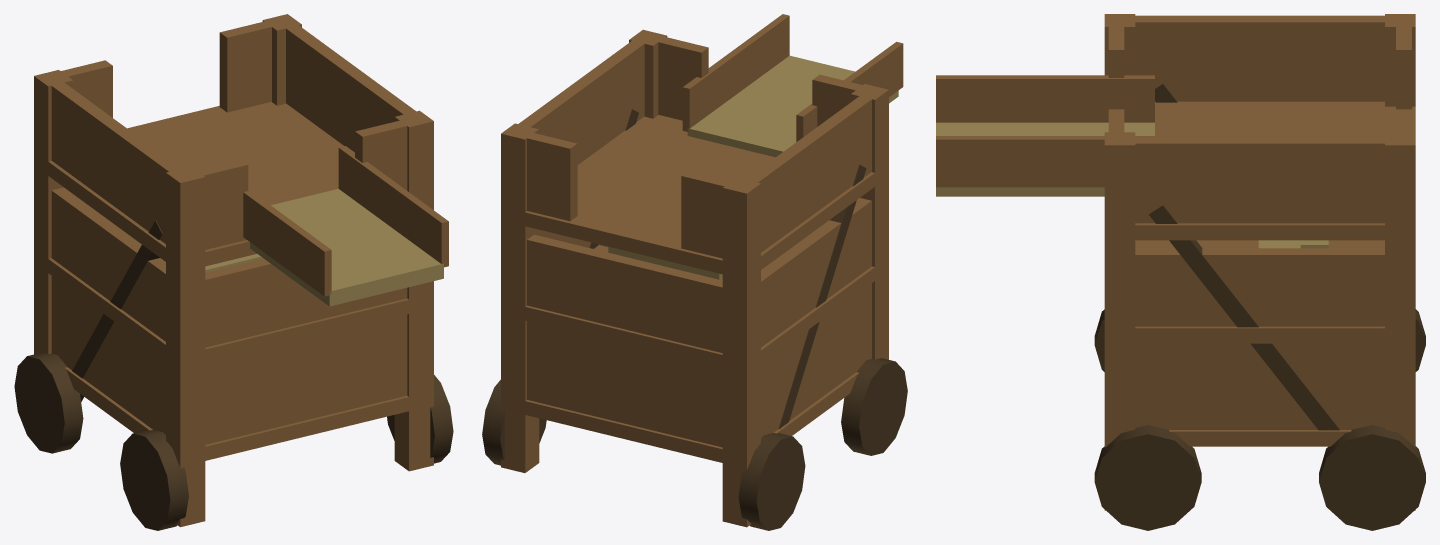
File: tower.glb
The picture shows the model from 3 angles, left to right: view 1: azimuth 30°, elevation 25°; view 2: azimuth 150°, elevation 25°; view 3: azimuth 270°, elevation 25°; orthographic projection. The views are drawn at different scales.
Parts seen in each view (by area): view 1: part_15, part_7, part_6, part_1, part_8, part_34, part_14, part_3, part_5, part_30, part_36, part_31 (+10 smaller); view 2: part_9, part_6, part_7, part_0, part_2, part_8, part_14, part_34, part_5, part_36, part_31, part_30 (+11 smaller); view 3: part_13, part_14, part_8, part_6, part_35, part_3, part_2, part_36, part_33, part_32, part_5, part_34 (+6 smaller).
Part boxes in pixels (box(x1,y1,x2,y2)): part_15: box(205, 258, 407, 444); part_7: box(51, 187, 165, 435); part_6: box(34, 102, 433, 271); part_1: box(166, 166, 205, 527); part_8: box(51, 74, 190, 243); part_34: box(250, 189, 443, 306); part_14: box(276, 18, 425, 152); part_3: box(394, 110, 433, 471); part_5: box(34, 249, 433, 363); part_30: box(14, 352, 83, 453); part_36: box(338, 146, 448, 267); part_31: box(120, 430, 188, 530); part_9: box(527, 234, 722, 447); part_6: box(501, 115, 888, 279); part_7: box(761, 198, 871, 437); part_0: box(722, 177, 760, 527); part_2: box(501, 123, 539, 472); part_8: box(739, 90, 881, 252); part_14: box(509, 32, 654, 164); part_34: box(687, 55, 898, 157); part_5: box(501, 245, 888, 373); part_36: box(682, 14, 789, 132); part_31: box(841, 358, 907, 455); part_30: box(738, 433, 805, 530); part_13: box(1135, 248, 1384, 429); part_14: box(1135, 137, 1384, 223); part_8: box(1111, 15, 1409, 101); part_6: box(1105, 101, 1415, 240); part_35: box(936, 75, 1154, 122); part_3: box(1104, 132, 1135, 510); part_2: box(1385, 132, 1415, 510); part_36: box(936, 136, 1154, 187); part_33: box(1094, 425, 1201, 530); part_32: box(1319, 425, 1425, 530); part_5: box(1104, 240, 1415, 343); part_34: box(936, 122, 1154, 196).
Size of the model in its own units: 3.96 by 4.76 by 5.59.
